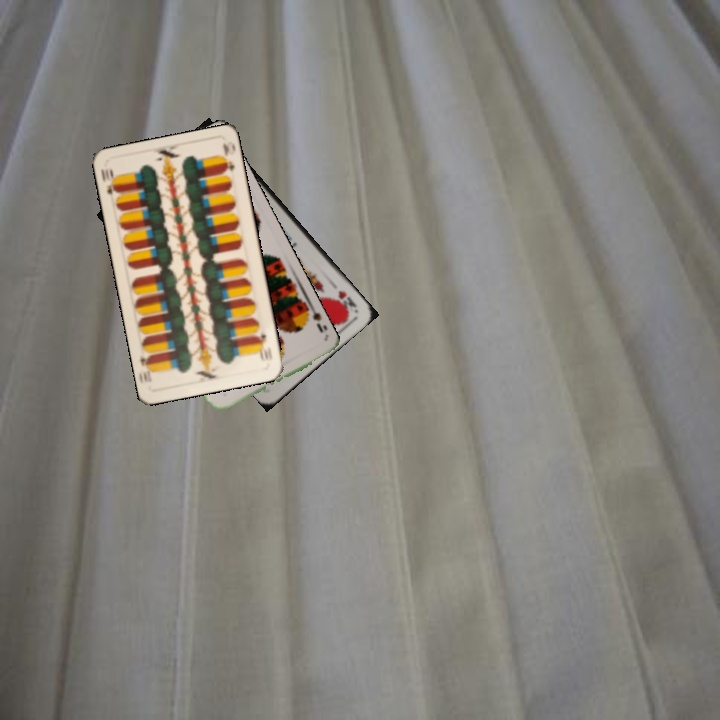E10: (97, 165, 121, 197), (253, 330, 271, 364)
HK: (334, 286, 359, 316)
S9: (299, 301, 326, 336)
